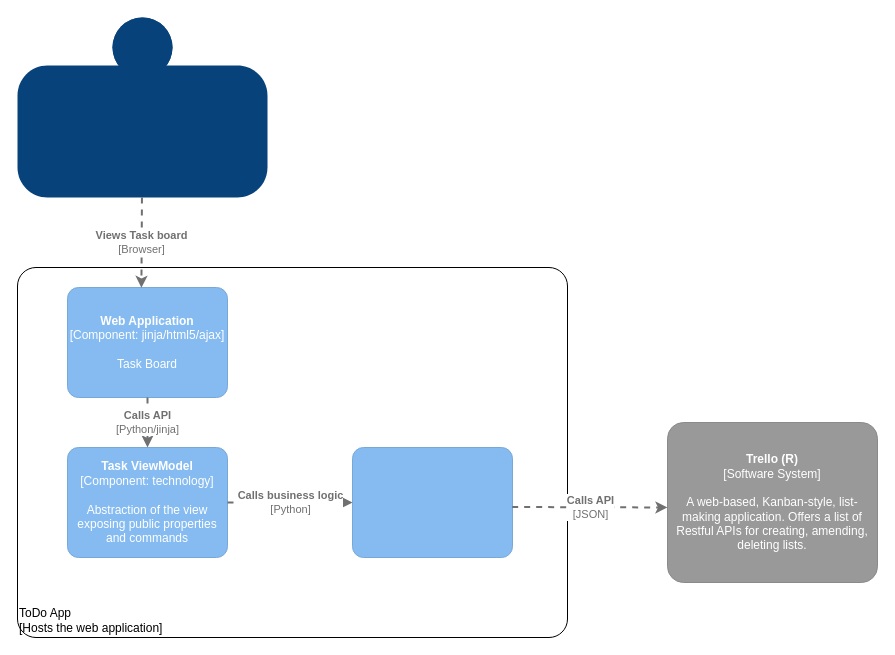
Some shapes in this 895 by 655 pixel diagram are drawn without their labels. The shapes that lost their labels are listed below. From the top down, each one's box as (x1, y1, x2, y2) in pixels, then its label:
(17, 17, 267, 197): ToDo App User [Person] ToDo App user create/add/deleting tasks
(352, 446, 512, 558): Task Management [Component: Python] Trello(R) API caller and Models
